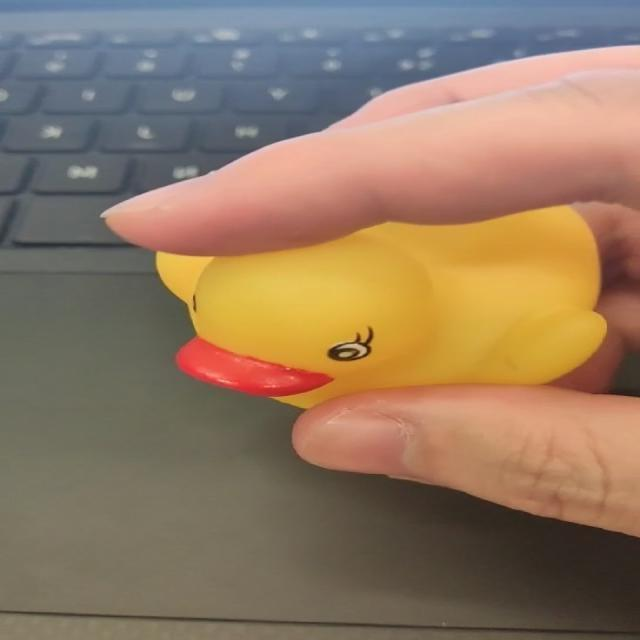rubber-duck: (155, 205, 604, 406)
